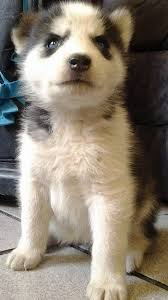husky: (8, 1, 152, 118)
